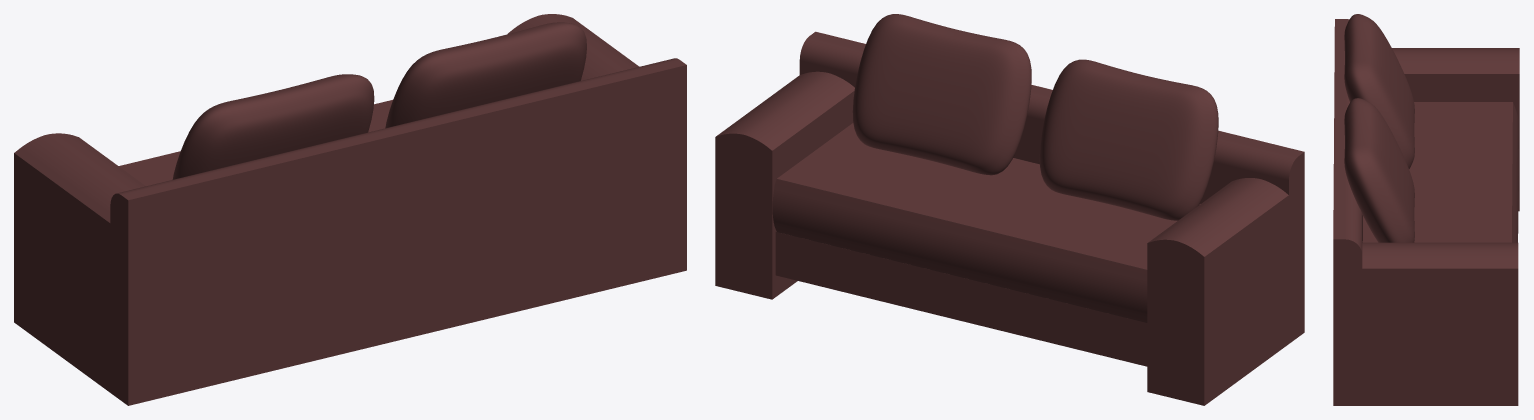
File: Canape1_1.fbx
The picture shows the model from 3 angles, left to right: view 1: azimuth 30°, elevation 25°; view 2: azimuth 150°, elevation 25°; view 3: azimuth 270°, elevation 25°; orthographic projection. The views are drawn at different scales.
Parts seen in each view (by area): view 1: pCube1068, pCube2517, pCube2516, pCube2518; view 2: pCube1068, pCube2518, pCube2517, pCube2516, pCube2515; view 3: pCube1068, pCube2518, pCube2517, pCube2516.
Part boxes in pixels (x1,y1,x2,y2): pCube1068: [14, 14, 686, 405]; pCube2517: [385, 22, 586, 128]; pCube2516: [172, 74, 374, 179]; pCube2518: [119, 100, 392, 186]; pCube1068: [715, 31, 1304, 405]; pCube2518: [772, 123, 1200, 322]; pCube2517: [852, 14, 1031, 175]; pCube2516: [1039, 59, 1218, 220]; pCube2515: [775, 231, 1147, 366]; pCube1068: [1333, 19, 1519, 405]; pCube2518: [1362, 102, 1518, 242]; pCube2517: [1344, 98, 1414, 242]; pCube2516: [1344, 14, 1414, 168].
Size of the model in its own units: 166 by 74.66 by 59.34.
